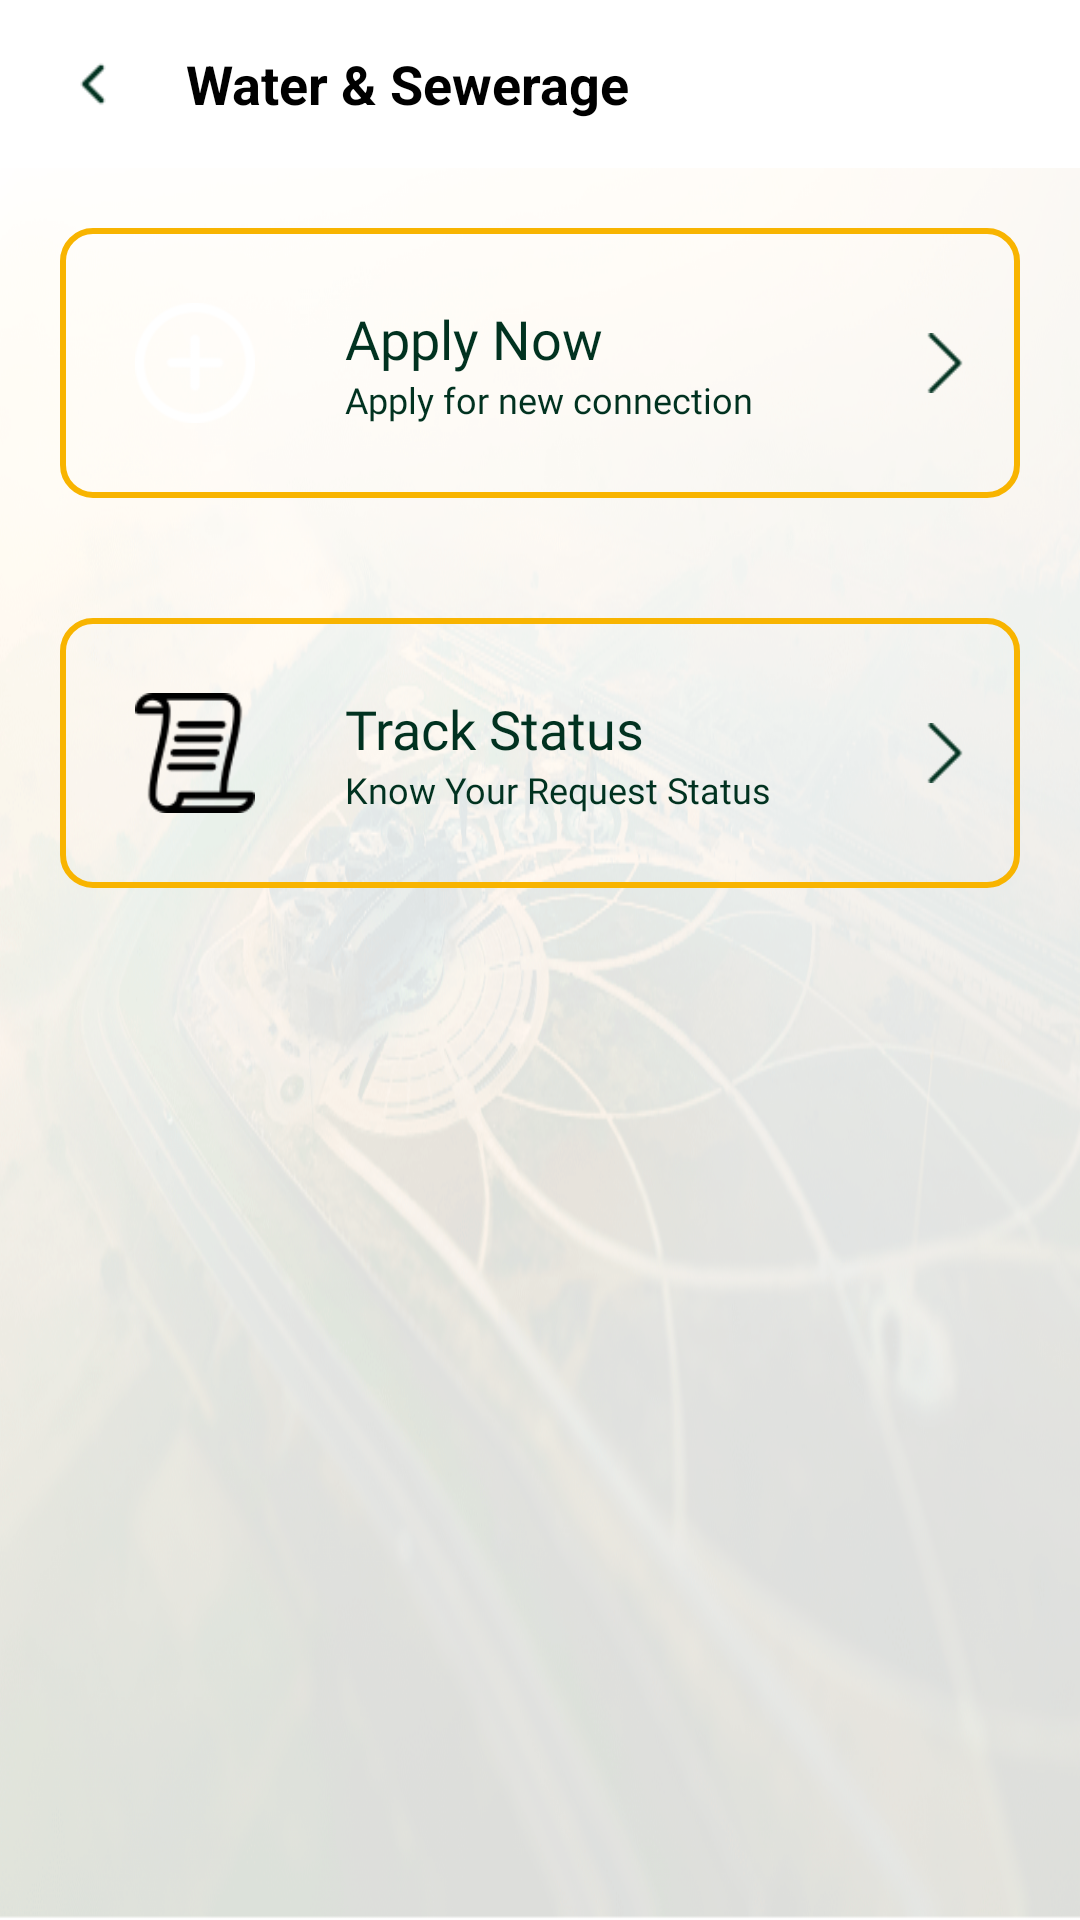

Icons on this 1080px x 1920px Android screen, each with the point to tap as (x=x, y=y):
arrow: (x=945, y=363), (x=945, y=753)
left: (x=93, y=84)
